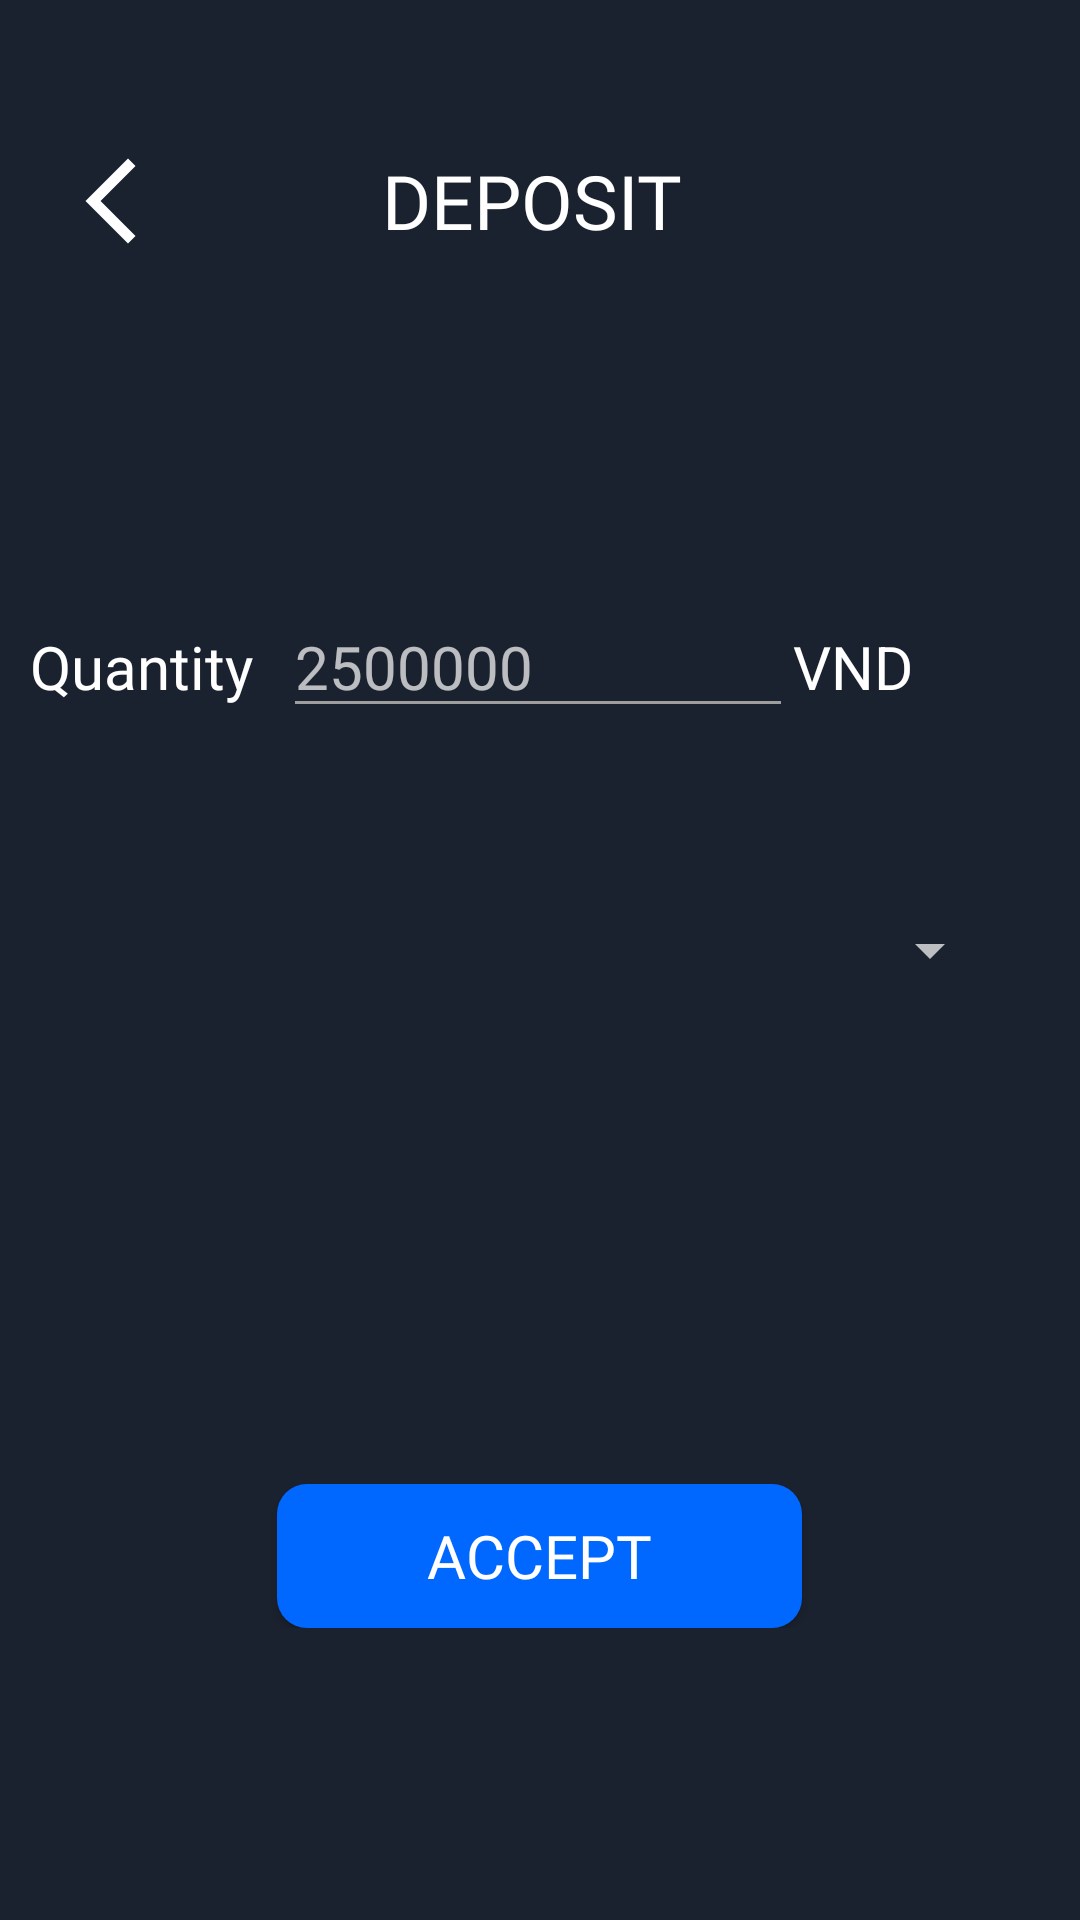

Icons on this 1080px x 1920px Android screen, each with its box as (x1, y1, x2, y2):
back: (85, 158, 136, 244)
